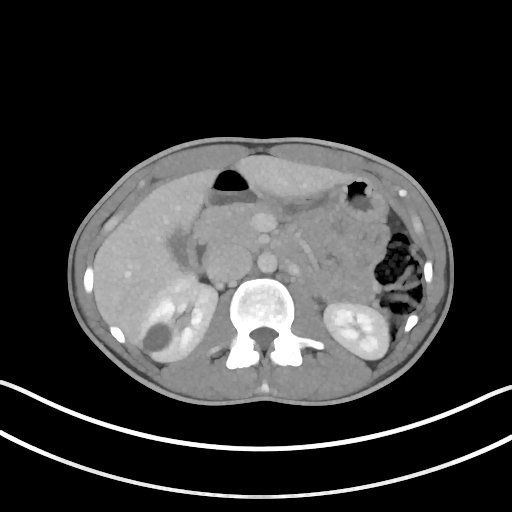Lesion: (139, 318, 174, 356)
